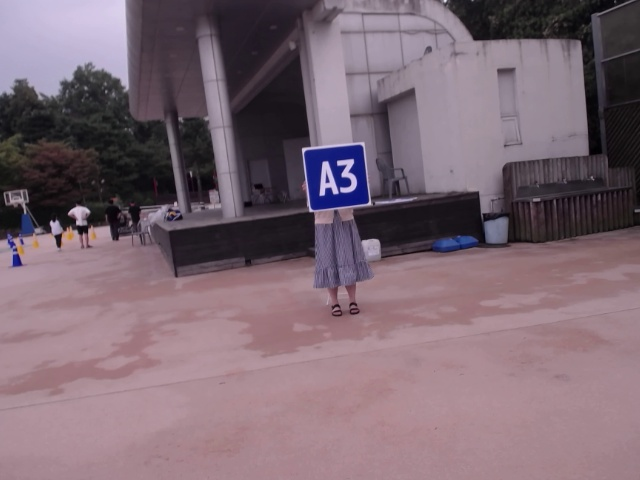delivery_a3: (303, 143, 371, 212)
